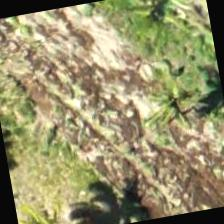Kelapa_Sawit: (130, 46, 223, 151), (124, 0, 213, 54), (13, 184, 83, 223)
